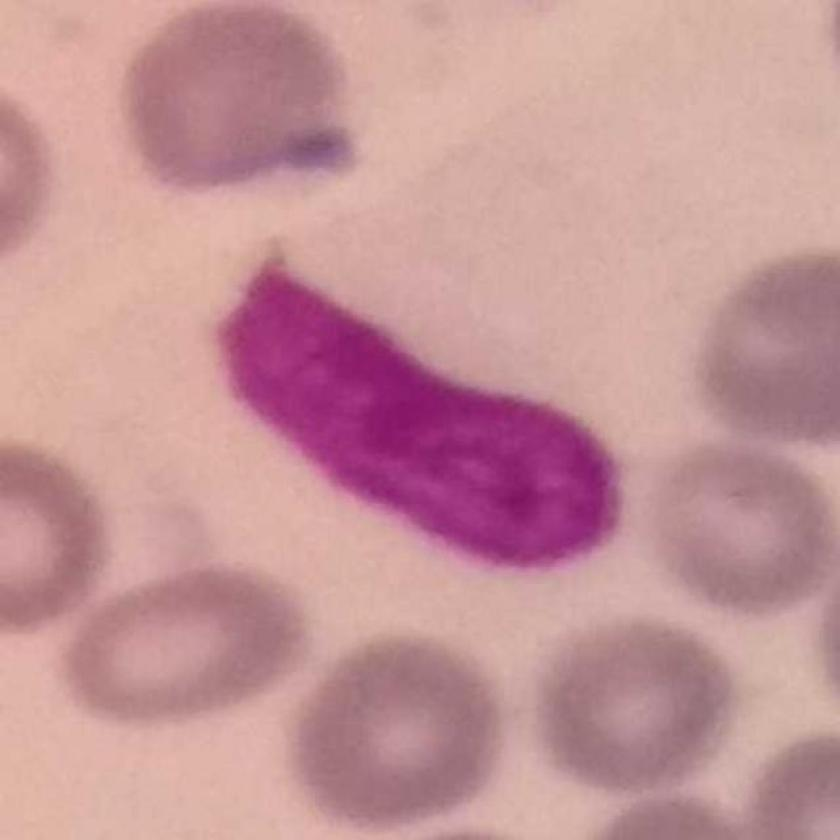monocyte: (199, 248, 656, 584)
